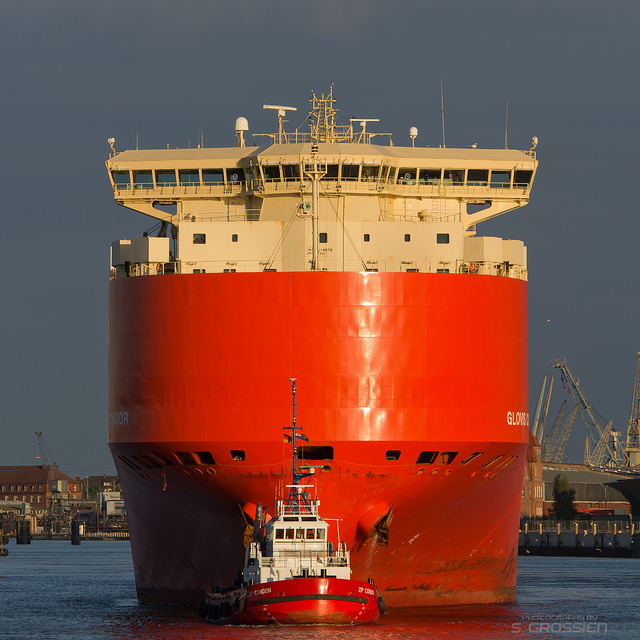PCC: (93, 92, 545, 620)
tug_boat: (199, 391, 389, 625)
